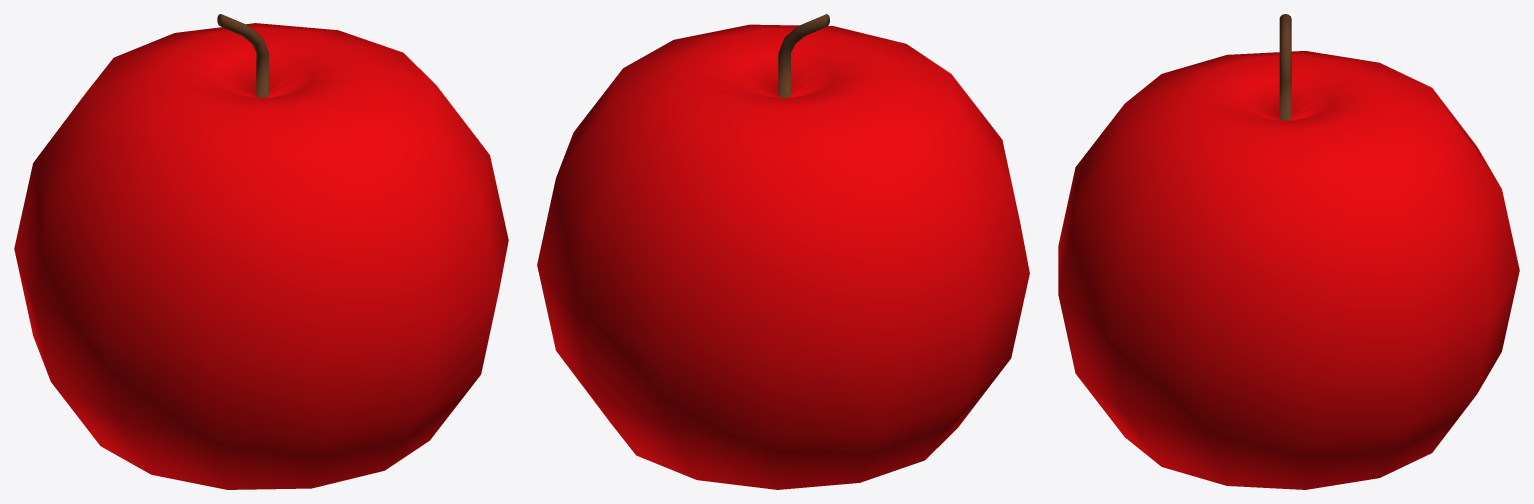
File: apple.fbx
3 renders of one model, left to right at view 1: azimuth 30°, elevation 25°; view 2: azimuth 150°, elevation 25°; view 3: azimuth 270°, elevation 25°, orthographic. The views are drawn at different scales.
Visible parts, largest first — view 1: apple; view 2: apple; view 3: apple.
Boxes of the visible parts, bbox=[...] form: apple: bbox=[14, 14, 508, 489]; apple: bbox=[537, 14, 1029, 489]; apple: bbox=[1058, 14, 1519, 489].
Size of the model in its own units: 61.56 by 60.57 by 61.11.
